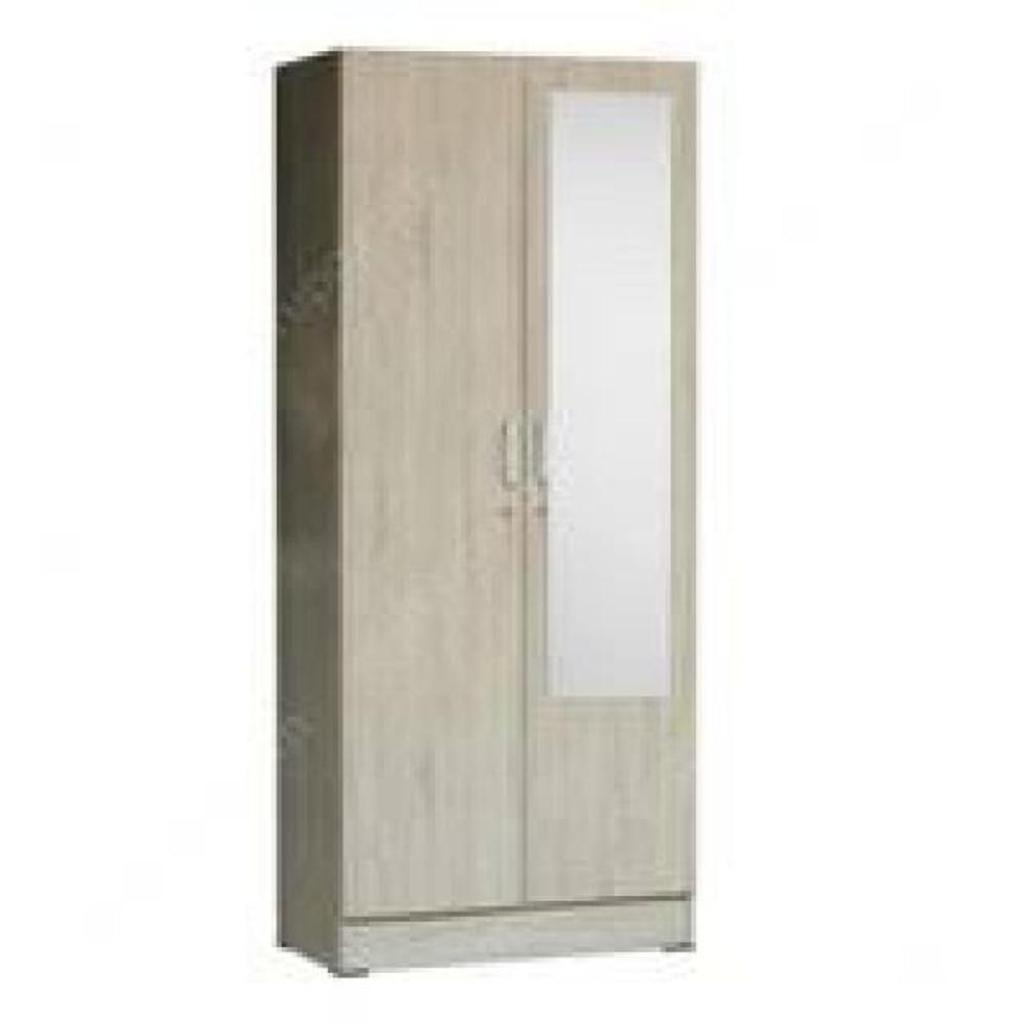cabinet: (274, 50, 700, 982)
